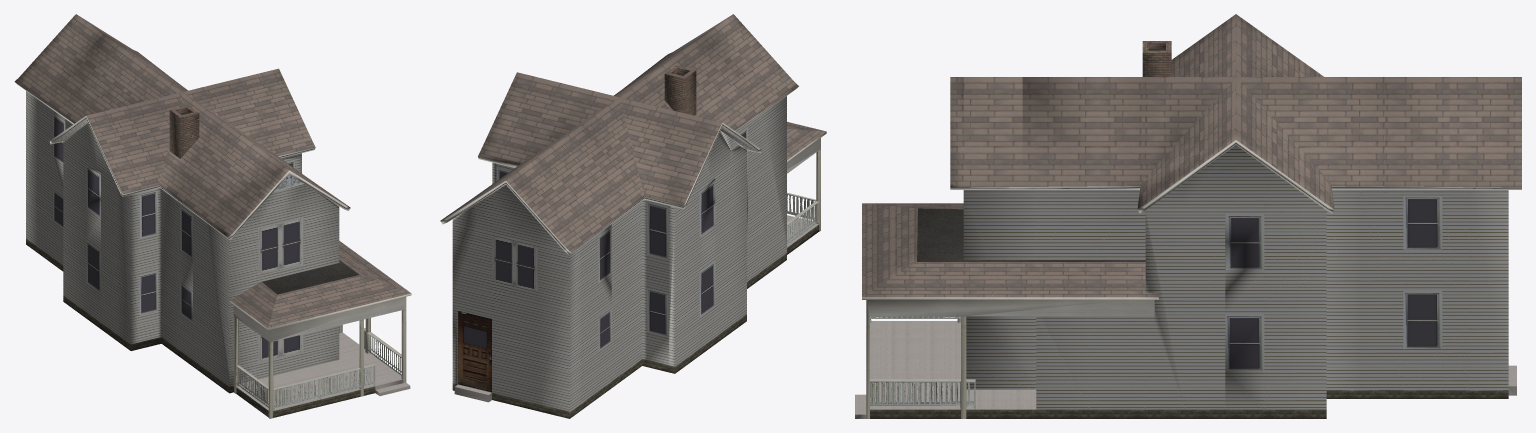
The model's file is house 1.fbx.
3 views of the same model, side by side, from view 1: azimuth 30°, elevation 25°; view 2: azimuth 150°, elevation 25°; view 3: azimuth 270°, elevation 25° (orthographic). The views are drawn at different scales.
Visible parts, largest first — view 1: _gltfNode_0; view 2: _gltfNode_0; view 3: _gltfNode_0.
Part boxes in pixels (left/top/right/bottom): _gltfNode_0: left=14, top=14, right=411, bottom=418; _gltfNode_0: left=440, top=14, right=826, bottom=418; _gltfNode_0: left=855, top=14, right=1521, bottom=418.
Bounding box in the file's own units: 1142 × 1260 × 2555.
Materials: 1 (1 with a texture image).
